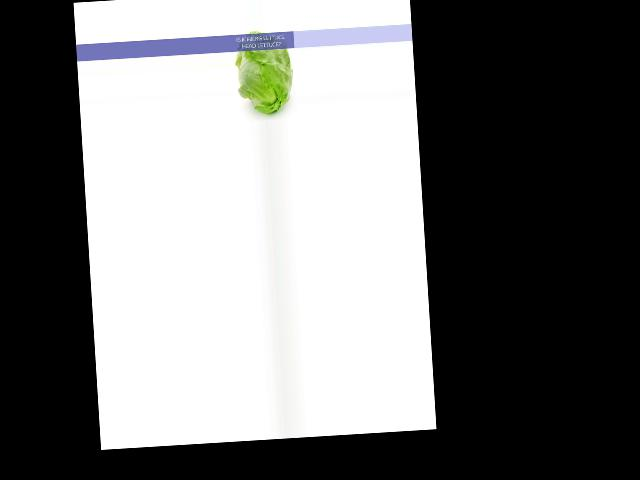lettuce: (233, 28, 293, 119)
